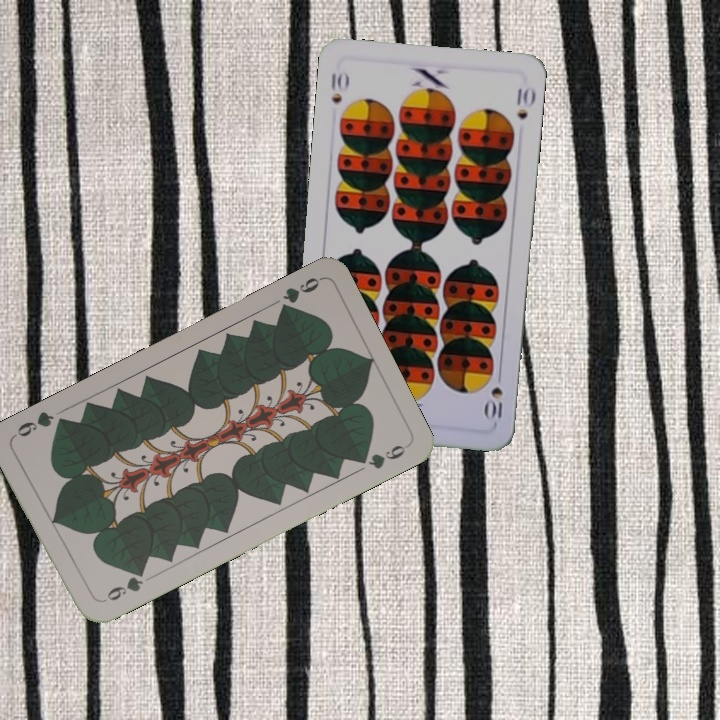G9: (275, 273, 324, 317), (103, 565, 147, 604)
S10: (482, 366, 505, 422), (327, 68, 351, 106)
